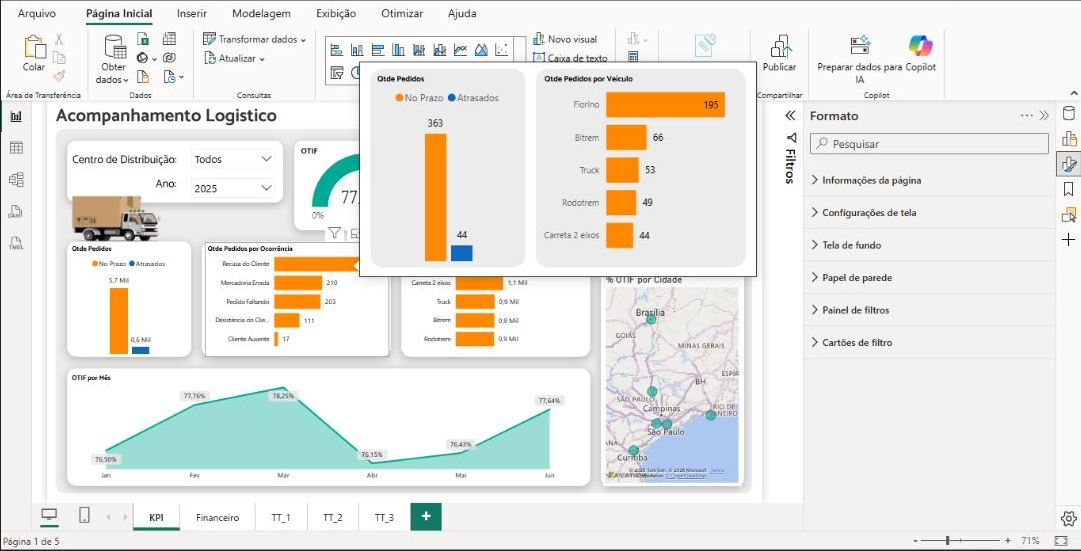

Layout of this report page (visuals, bound fields, positions):
{"tool":"powerbi","page":{"name":"KPI","canvas":[1280,720],"ordinal":0},"visuals":[{"type":"gauge","fields":{"Y":["Medidas.% OTIF"]},"box":[445,76.5,249.4,150.2],"z":0},{"type":"gauge","fields":{"Y":["Medidas.% INFULL"]},"box":[718.7,76.9,248.5,150.2],"z":1000},{"type":"gauge","fields":{"Y":["Medidas.% ONTIME"]},"box":[994,76.9,248.5,150.2],"z":2000},{"type":"clusteredColumnChart","fields":{"Y":["Medidas.Qtd Pedidos No Prazo","Medidas.Qtd Pedidos Atrasados"]},"box":[36.3,272,222.1,187.4],"z":3000},{"type":"clusteredBarChart","fields":{"Category":["Dim_Status.Motivo"],"Y":["Medidas.Qtd Pedidos COM Ocorrência"]},"box":[282.6,253.9,329.4,205.5],"z":4000},{"type":"clusteredBarChart","fields":{"Category":["Dim_Transporte.Veiculo"],"Y":["Medidas.Qtd Pedidos"]},"box":[640.8,253.9,326.4,205.5],"z":5000},{"type":"areaChart","fields":{"Category":["dCalendario.MesAbrev"],"Y":["Medidas.% OTIF"]},"box":[36.3,483.6,930.9,205.5],"z":6000},{"type":"map","fields":{"Category":["Fato_Pedidos.Cidade"],"Size":["Medidas.% OTIF"]},"box":[994.6,272.6,246.9,416.7],"z":7000},{"type":"slicer","fields":{"Values":["Dim_CD.Nome"]},"box":[248,76,170,50],"z":8000},{"type":"slicer","fields":{"Values":["dCalendario.Ano"]},"box":[248,128.3,170,50],"z":9000},{"type":"actionButton","box":[924.3,12.9,117.1,40],"z":10000},{"type":"actionButton","box":[1060,12.9,117.1,40],"z":10001}]}

Visuals, with their boxes on the page's 1280x720 design canvas (x1, y1, x2, y2). These are canvas units, not pixel positions in the 1081x551 screenshot, which may show the page scaled, cropped or inside an application window:
gauge - Medidas.% OTIF: (445,76,694,227)
gauge - Medidas.% INFULL: (719,77,967,227)
gauge - Medidas.% ONTIME: (994,77,1242,227)
clusteredColumnChart - Medidas.Qtd Pedidos No Prazo x Medidas.Qtd Pedidos Atrasados: (36,272,258,459)
clusteredBarChart - Dim_Status.Motivo x Medidas.Qtd Pedidos COM Ocorrência: (283,254,612,459)
clusteredBarChart - Dim_Transporte.Veiculo x Medidas.Qtd Pedidos: (641,254,967,459)
areaChart - dCalendario.MesAbrev x Medidas.% OTIF: (36,484,967,689)
map - Fato_Pedidos.Cidade x Medidas.% OTIF: (995,273,1242,689)
slicer - Dim_CD.Nome: (248,76,418,126)
slicer - dCalendario.Ano: (248,128,418,178)
actionButton: (924,13,1041,53)
actionButton: (1060,13,1177,53)
